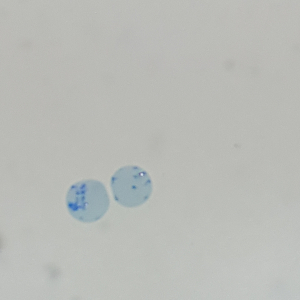aggregate reticulocyte: (63, 178, 111, 224)
punctate reticulocyte: (109, 164, 155, 210)
